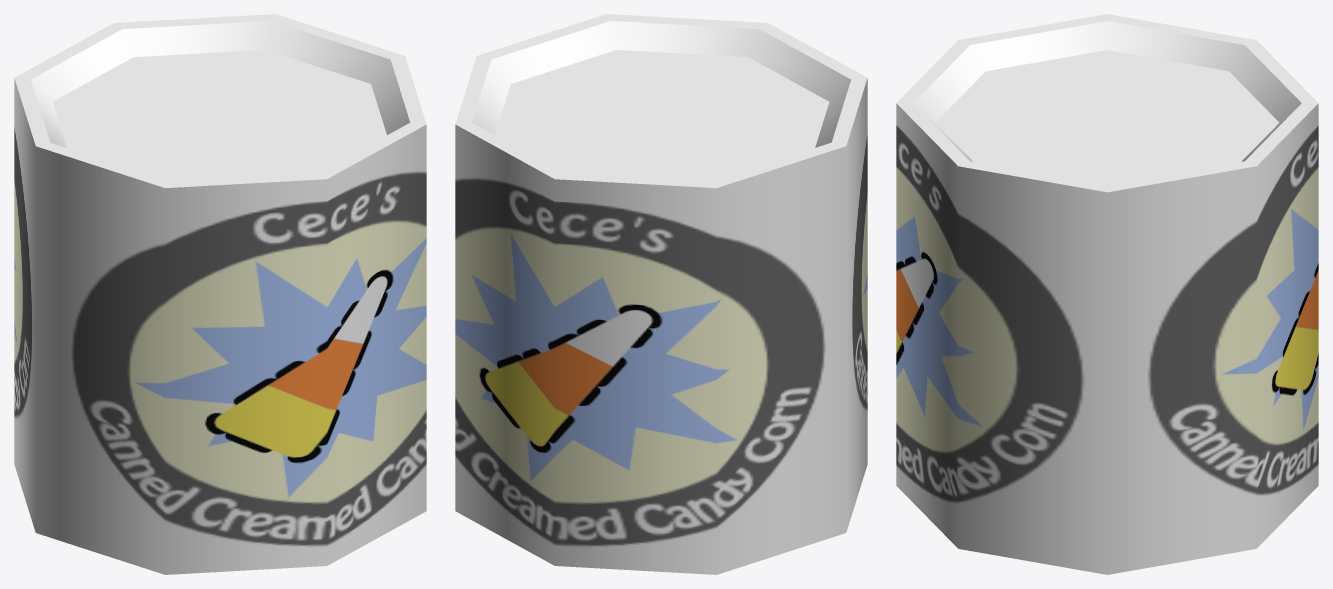
The model's file is CCCCan.fbx.
3 renders of one model, left to right at view 1: azimuth 30°, elevation 25°; view 2: azimuth 150°, elevation 25°; view 3: azimuth 270°, elevation 25°, orthographic.
Parts seen in each view (by area): view 1: CCCCan; view 2: CCCCan; view 3: CCCCan.
Part boxes in pixels (x1,y1,x2,y2): CCCCan: (14,14,426,574); CCCCan: (455,14,867,574); CCCCan: (896,14,1318,574).
Size of the model in its own units: 0.1476 by 0.1476 by 0.1476.
